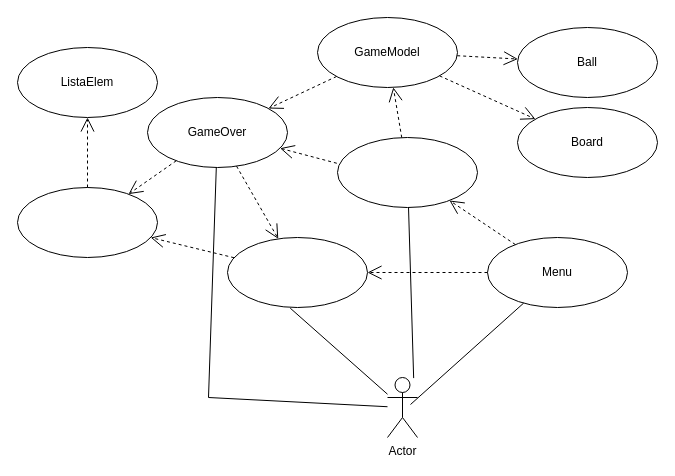
Some shapes in this 675 by 476 pixel diagram are drawn without their labels. The shapes that lost their labels are listed below. From the top down, each one's centre as x and y in pixels, then its label:
point 407,172: Jatek
point 87,222: Fajlkezeles
point 297,272: Ranglista
